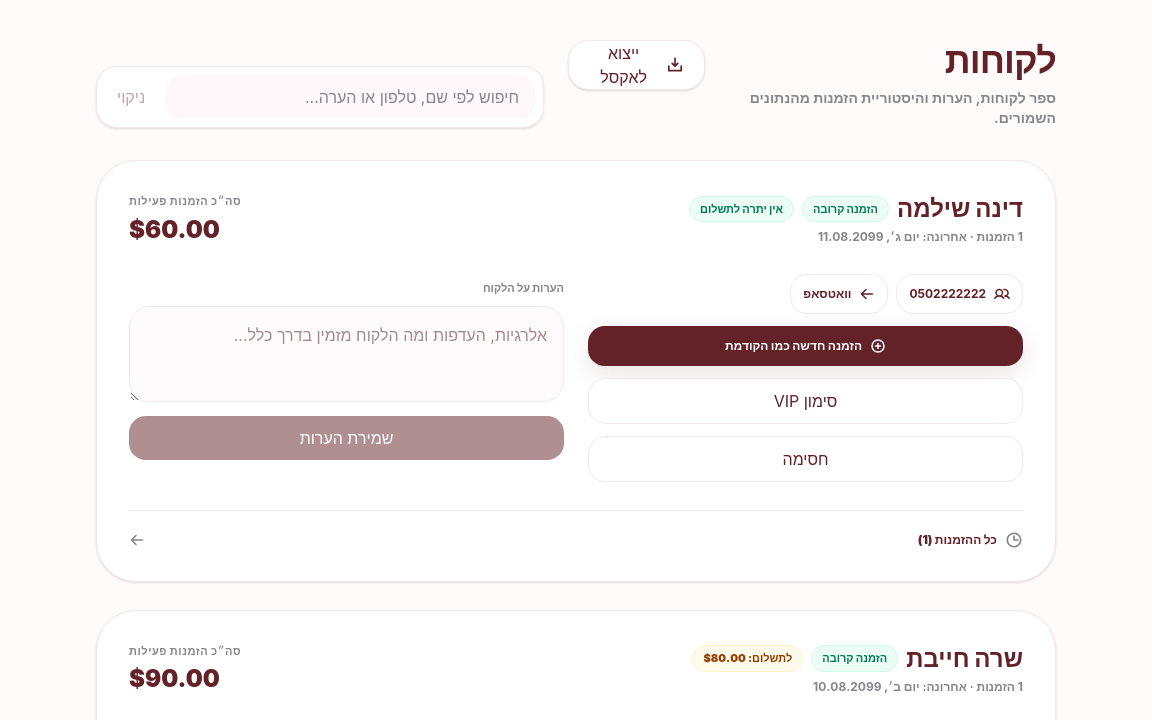
Test case: CustomersScreen › keeps the outstanding chip attached to each customer when searching
The width and height of the screenshot is (1152, 720).
Type "שרה" into the search field named "חיפוש לקוחות" at (350, 97), box [165,75,535,119]
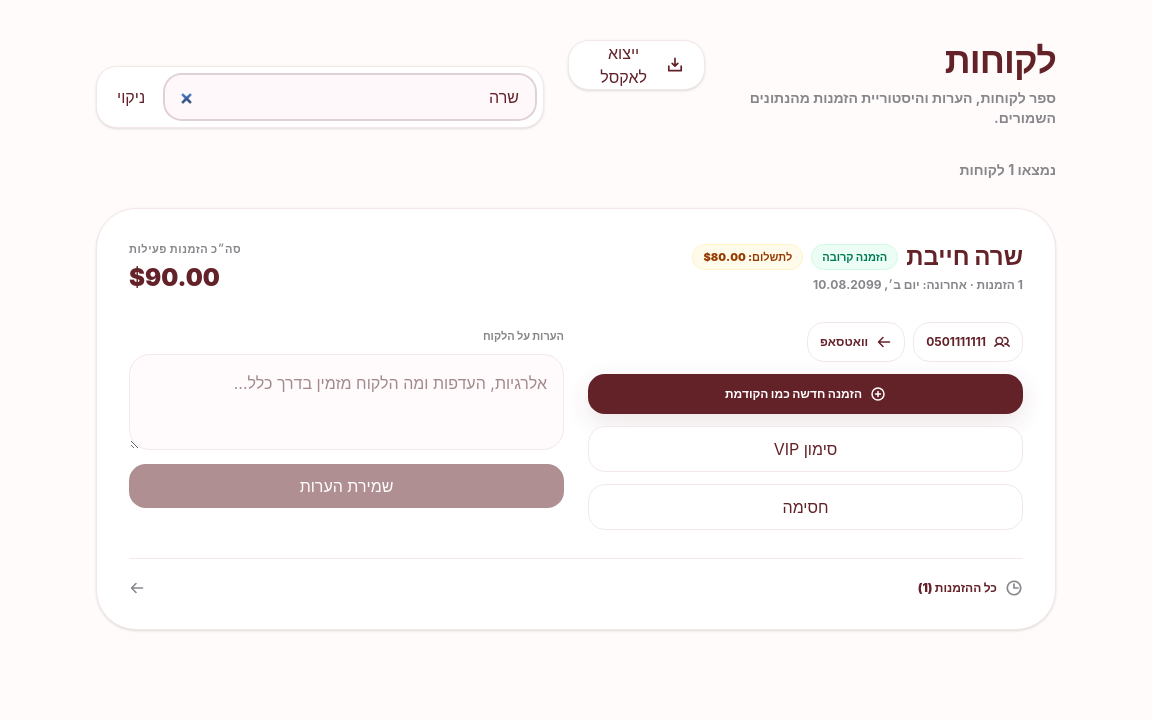
Expected: the text "נמצאו 1 לקוחות" is shown, [960,161,1056,178]
Expected: the text "$80.00" is shown once, [703,250,746,264]
Expected: the text "אין יתרה לתשלום" is gone
